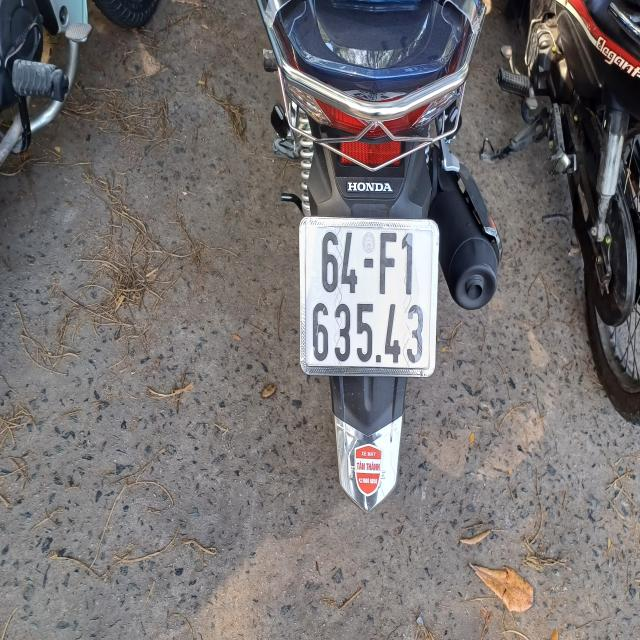1: (401, 231, 416, 294)
3: (334, 304, 354, 366), (407, 304, 424, 364)
4: (341, 228, 358, 300), (383, 303, 403, 364)
5: (357, 300, 374, 361)
6: (311, 301, 331, 364), (321, 230, 340, 296)
F: (379, 228, 399, 296)
